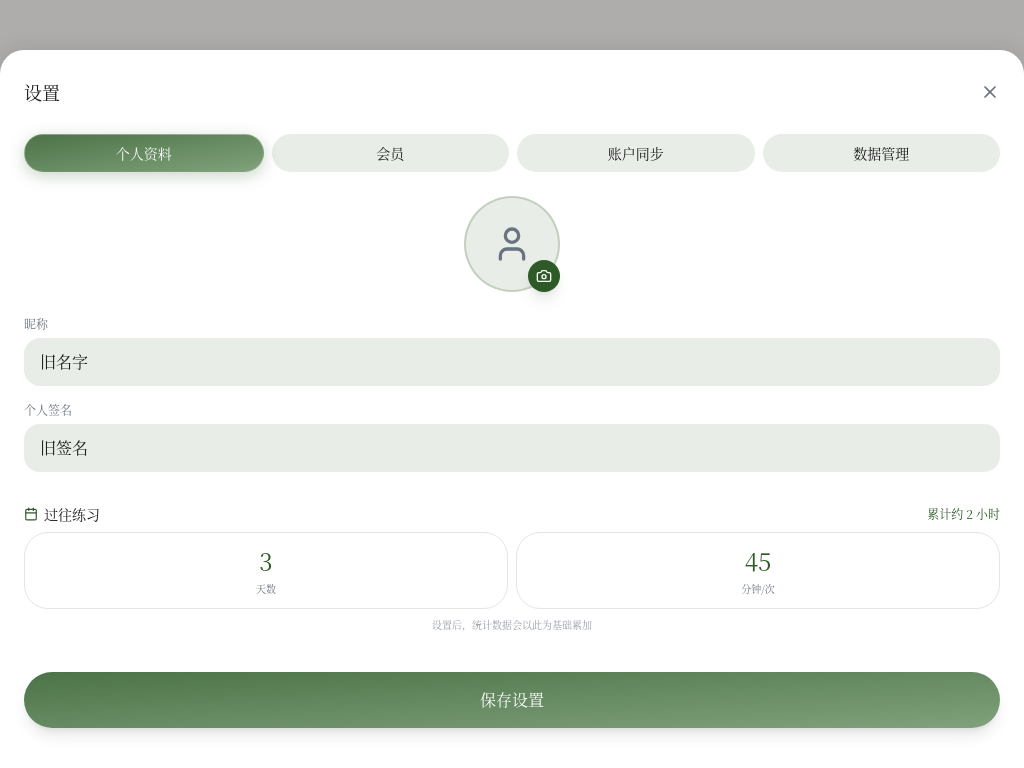
SettingsModal › 生成运行日志期间显示旋转提示，完成后恢复按钮
Later steps or results of the test are not shown.
Click the button "数据管理": point(881, 153) [762,134,1000,172]
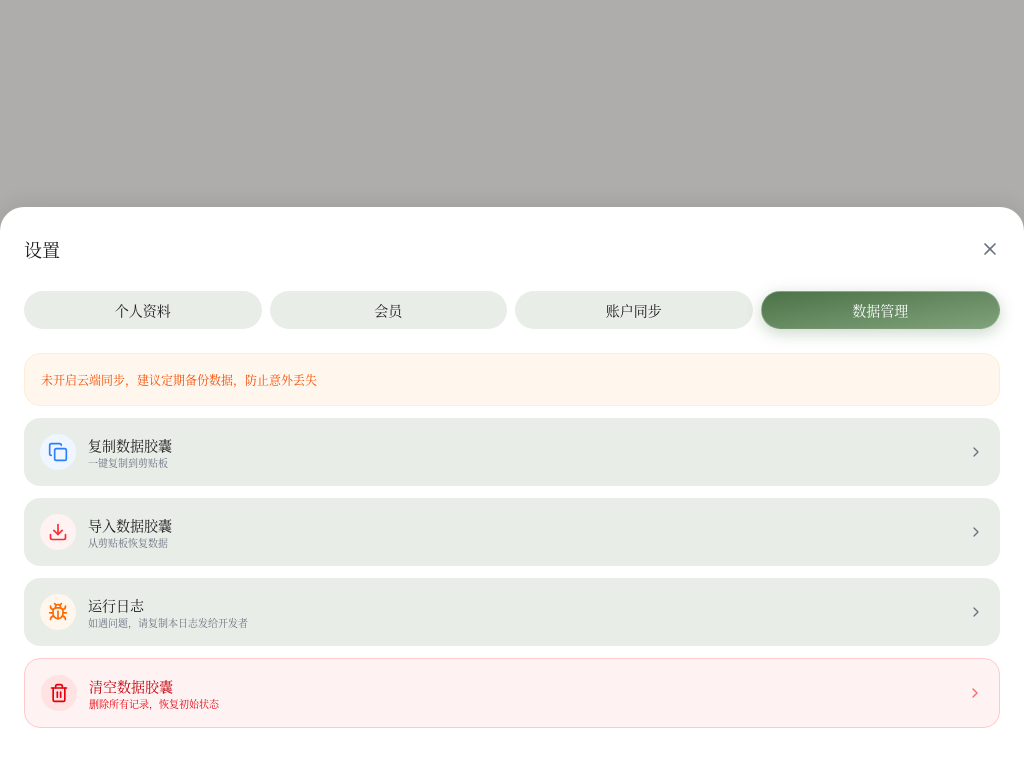
Click the button with test id "settings-export-log": point(58, 612) [24,578,1000,646]
Expected: the text "请稍候，正在测试连接..." is shown, [88,614,248,630]
Expected: the text "运行日志" is shown, [88,594,144,614]
Expected: the button with test id "settings-export-log" is enabled, [24,578,1000,646]
